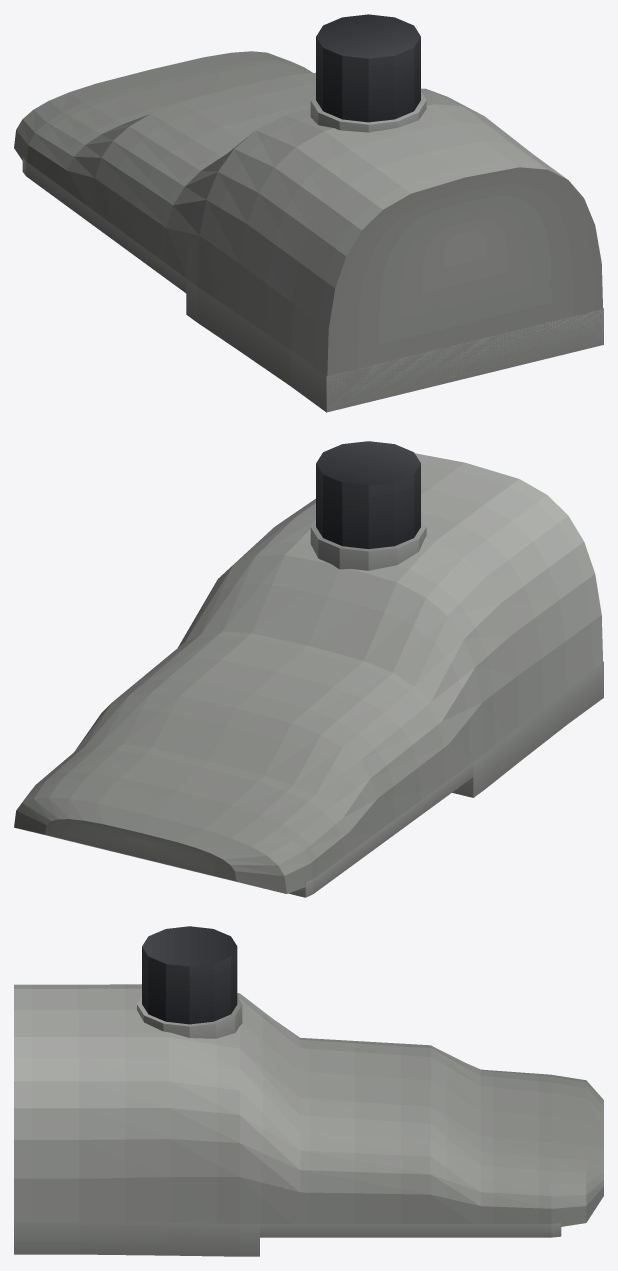
File: streetlight_ltgcmv2.obj
The picture shows the model from 3 angles, top to bottom: view 1: azimuth 30°, elevation 25°; view 2: azimuth 150°, elevation 25°; view 3: azimuth 270°, elevation 25°; orthographic projection. The views are drawn at different scales.
Visible parts, largest first — view 1: fixture; view 2: fixture; view 3: fixture.
Part boxes in pixels (<box>): fixture: <box>14,14,603,412</box>; fixture: <box>14,441,603,897</box>; fixture: <box>14,926,603,1256</box>.
Bounding box in the file's own units: 0.375 × 0.3387 × 0.7344.
